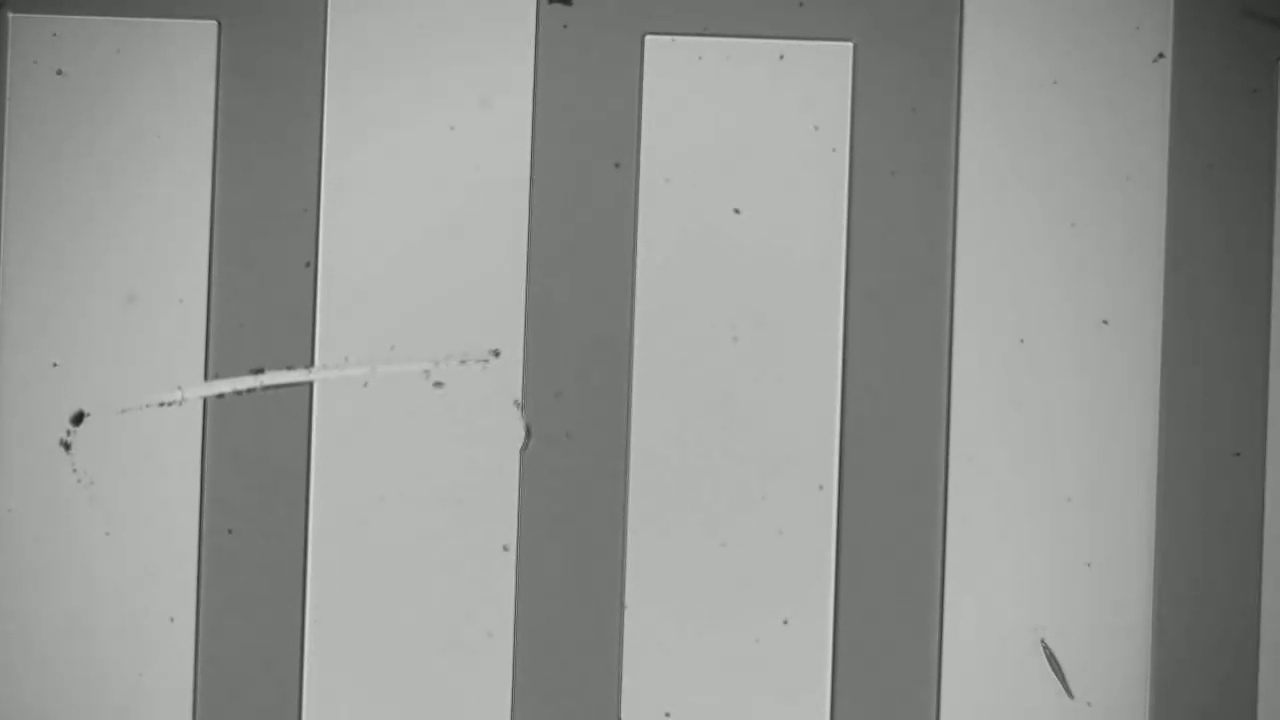Short_circuit: (176, 338, 329, 420)
